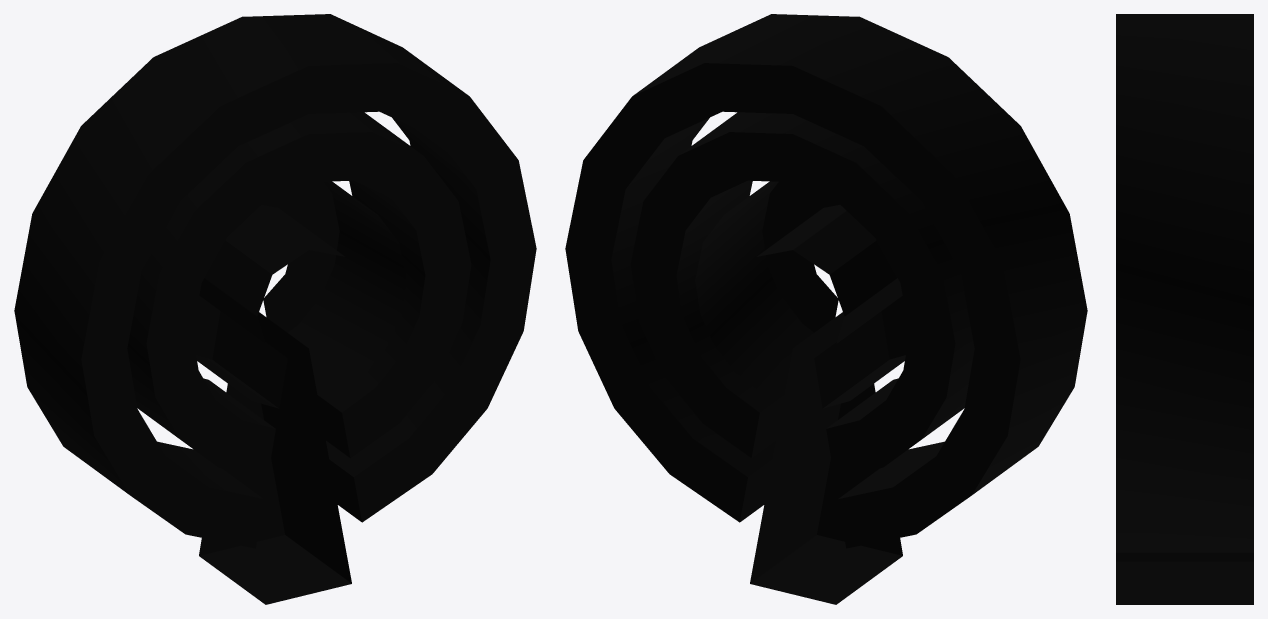
Rendered from fanta1.ico.obj.
3 views of the same model, side by side, from view 1: azimuth 30°, elevation 25°; view 2: azimuth 150°, elevation 25°; view 3: azimuth 270°, elevation 25° (orthographic). The views are drawn at different scales.
Bounding box in the file's own units: 4.48 × 4.97 × 1.14.
1 material, 1 textured.
